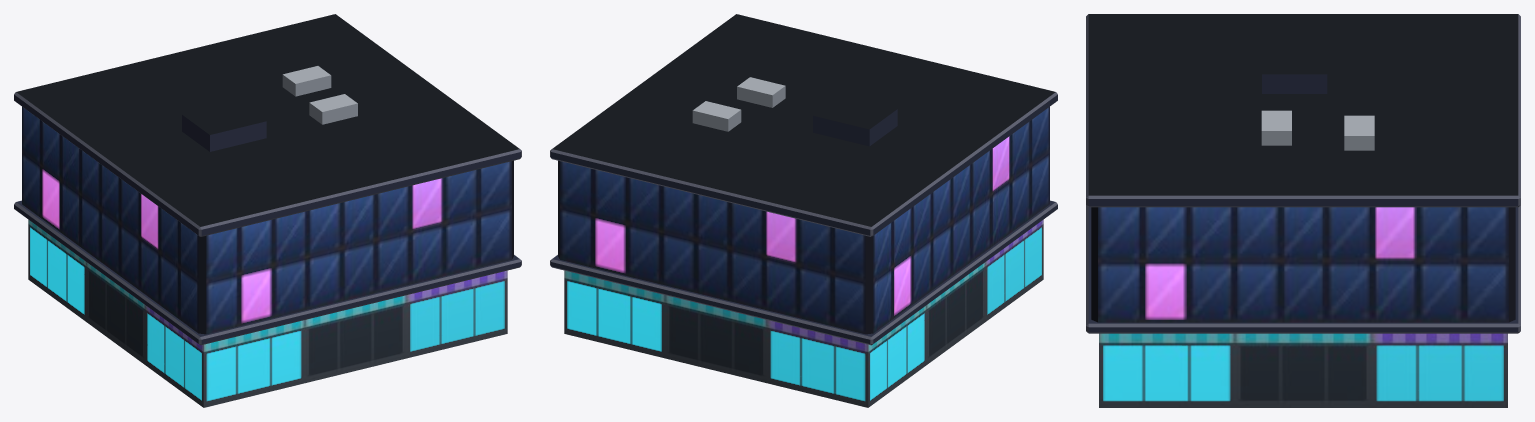
File: building-20x20x12.glb
The picture shows the model from 3 angles, left to right: view 1: azimuth 30°, elevation 25°; view 2: azimuth 150°, elevation 25°; view 3: azimuth 270°, elevation 25°; orthographic projection. The views are drawn at different scales.
Parts seen in each view (by area): view 1: building-20x20x12; view 2: building-20x20x12; view 3: building-20x20x12.
Boxes of the visible parts, bbox=[...] form: building-20x20x12: bbox=[14, 14, 521, 407]; building-20x20x12: bbox=[550, 14, 1057, 407]; building-20x20x12: bbox=[1086, 14, 1520, 407].
Size of the model in its own units: 20 by 12 by 20.
Materials: 1 (1 with a texture image).
